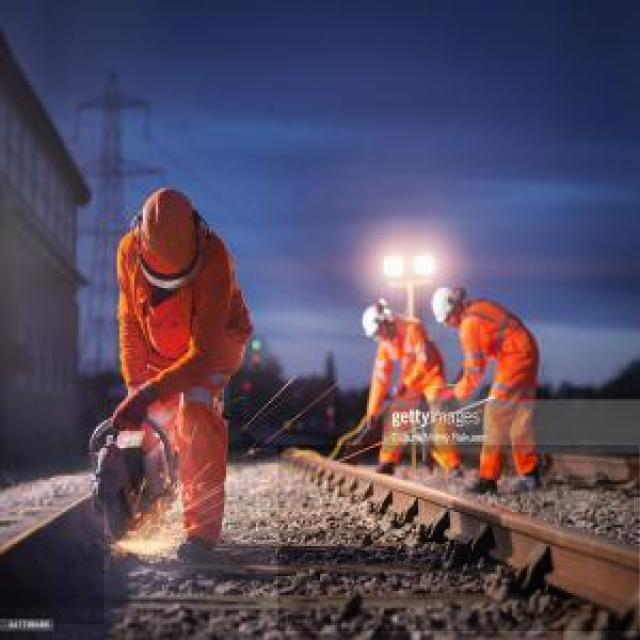rail: (279, 446, 640, 632), (1, 485, 105, 625)
